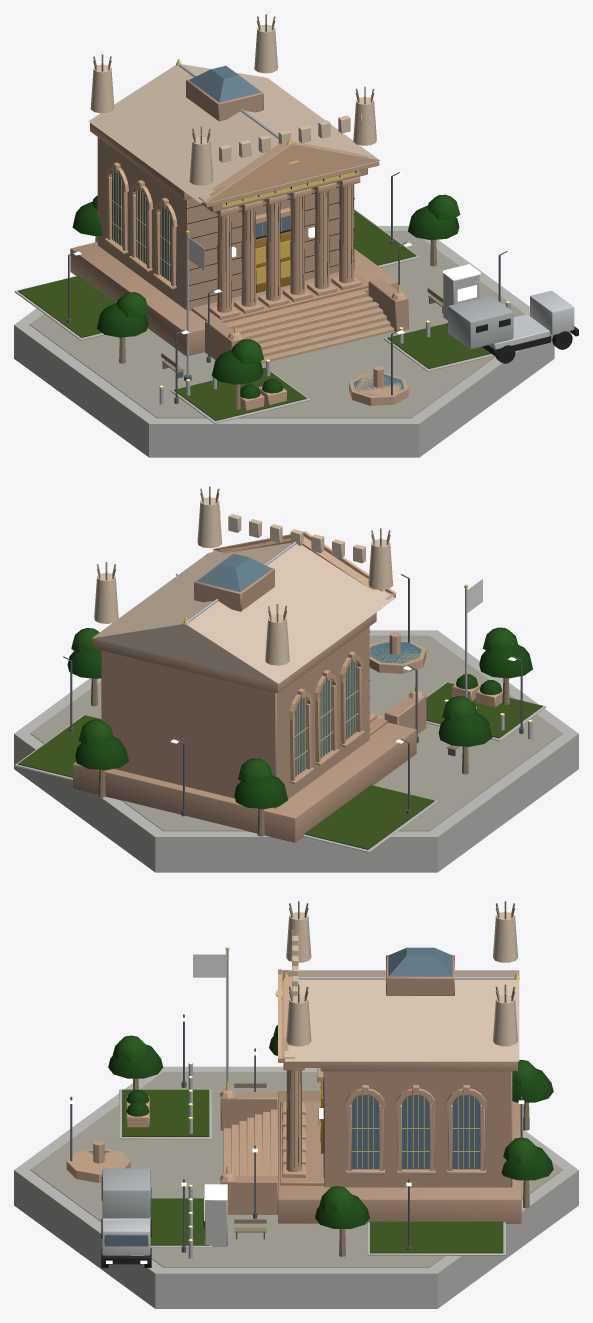
File: bank_africa.glb
3 views of the same model, one above another, from view 1: azimuth 30°, elevation 25°; view 2: azimuth 150°, elevation 25°; view 3: azimuth 270°, elevation 25° (orthographic). The views are drawn at different scales.
Visible parts, largest first — view 1: stone, wall_concrete, pavers, plaster, turf, leaf, paint, glass, dark, gold, wood, steel_dark (+2 smaller); view 2: stone, plaster, wall_concrete, pavers, leaf, turf, glass, wood, gold, steel_dark, metal; view 3: stone, wall_concrete, plaster, pavers, turf, glass, leaf, paint, gold, wood, metal, dark (+3 smaller).
Boxes of the visible parts, x1,y1,x2,y2 form: stone: [70, 70, 408, 410]; wall_concrete: [14, 209, 554, 457]; pavers: [29, 231, 525, 418]; plaster: [88, 24, 378, 203]; turf: [18, 210, 491, 420]; leaf: [72, 194, 460, 398]; paint: [447, 291, 574, 349]; glass: [112, 65, 403, 395]; dark: [187, 171, 578, 363]; gold: [110, 58, 510, 388]; wood: [93, 14, 443, 409]; steel_dark: [66, 172, 507, 403]; stone: [73, 531, 502, 842]; plaster: [92, 497, 395, 683]; wall_concrete: [14, 630, 578, 872]; pavers: [30, 635, 562, 831]; leaf: [67, 627, 532, 809]; turf: [18, 682, 542, 849]; glass: [197, 553, 421, 776]; wood: [91, 486, 509, 836]; gold: [183, 536, 532, 776]; steel_dark: [63, 574, 523, 816]; metal: [184, 541, 532, 739]; stone: [66, 955, 521, 1223]; wall_concrete: [14, 1066, 578, 1308]; plaster: [285, 912, 519, 1061]; pavers: [30, 1072, 562, 1267]; turf: [122, 1089, 503, 1253]; glass: [86, 947, 480, 1246]; leaf: [108, 1025, 553, 1228]; paint: [102, 1168, 151, 1255]; gold: [188, 947, 519, 1241]; wood: [132, 901, 529, 1256]; metal: [188, 950, 514, 1258]; dark: [101, 1070, 324, 1267].
Size of the model in its own units: 21.3 by 12.41 by 24.6.
